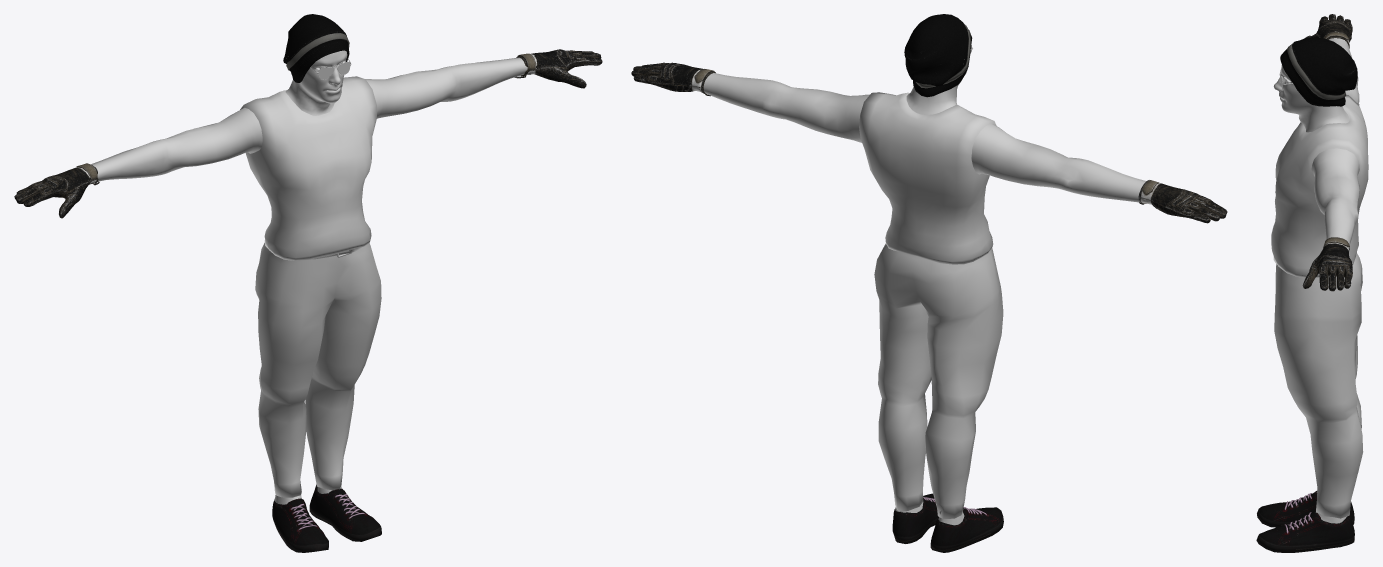
Rendered from hirsizkos.obj.
The picture shows the model from 3 angles, left to right: view 1: azimuth 30°, elevation 25°; view 2: azimuth 150°, elevation 25°; view 3: azimuth 270°, elevation 25°; orthographic projection. The views are drawn at different scales.
Visible parts, largest first — view 1: Bottoms, Tops, Body, Shoes, Gloves, Hats; view 2: Bottoms, Tops, Body, Hats, Gloves, Shoes; view 3: Bottoms, Tops, Body, Shoes, Hats, Gloves.
Boxes of the visible parts, <box> form: Bottoms: <box>255,243,381,497</box>; Tops: <box>240,76,376,260</box>; Body: <box>90,50,536,504</box>; Shoes: <box>272,484,381,552</box>; Gloves: <box>14,49,602,218</box>; Hats: <box>283,14,349,82</box>; Bottoms: <box>874,243,1003,519</box>; Tops: <box>859,92,996,264</box>; Body: <box>703,59,1146,525</box>; Hats: <box>904,14,972,97</box>; Gloves: <box>631,62,1227,223</box>; Shoes: <box>892,493,1003,552</box>; Bottoms: <box>1273,253,1363,518</box>; Tops: <box>1271,94,1368,277</box>; Body: <box>1273,38,1359,523</box>; Shoes: <box>1256,491,1354,552</box>; Hats: <box>1280,37,1357,106</box>; Gloves: <box>1302,14,1352,291</box>.
Bounding box in the file's own units: 213 × 178 × 36.63.
